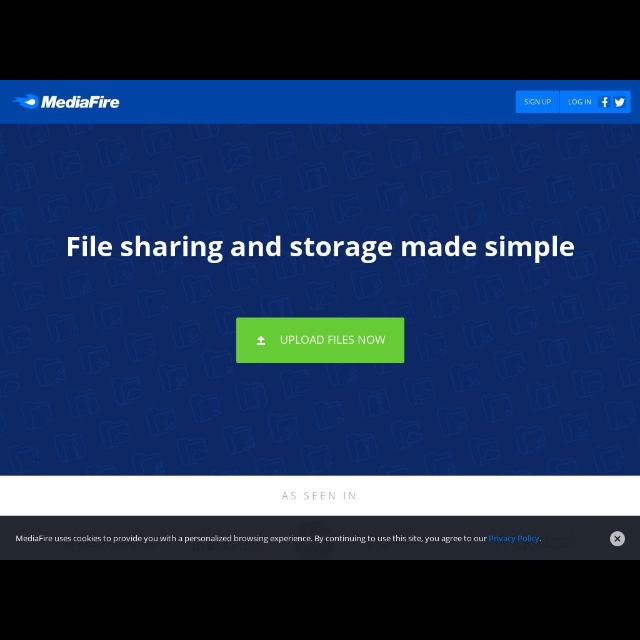backgroundimage: (1, 124, 640, 476)
button: (610, 531, 626, 547)
icon: (256, 336, 266, 346), (614, 535, 622, 543)
iframe: (1, 516, 640, 560)
image: (11, 94, 120, 110), (598, 96, 612, 108), (614, 96, 626, 108)
text: (68, 236, 574, 264), (16, 536, 542, 544), (280, 336, 386, 344), (282, 490, 356, 500), (524, 99, 552, 105), (568, 99, 592, 105)
textbutton: (236, 318, 404, 364), (560, 90, 630, 114), (514, 91, 560, 113)
toolbar: (1, 80, 639, 124)
